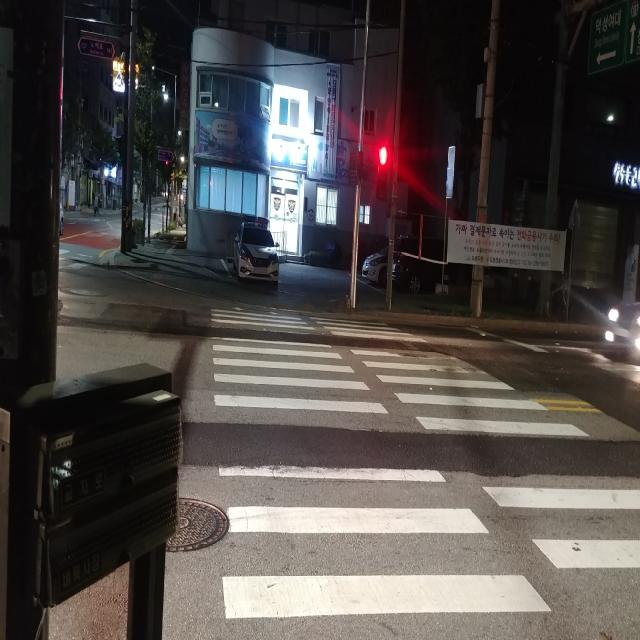빨간불: (375, 138, 391, 201)
횡단보도: (210, 306, 640, 624)
